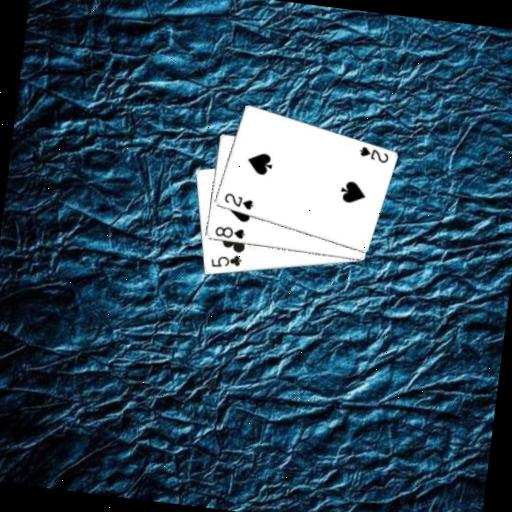2S: (220, 190, 256, 213), (355, 143, 391, 166)
5C: (207, 249, 243, 272)
8S: (211, 222, 247, 241)
